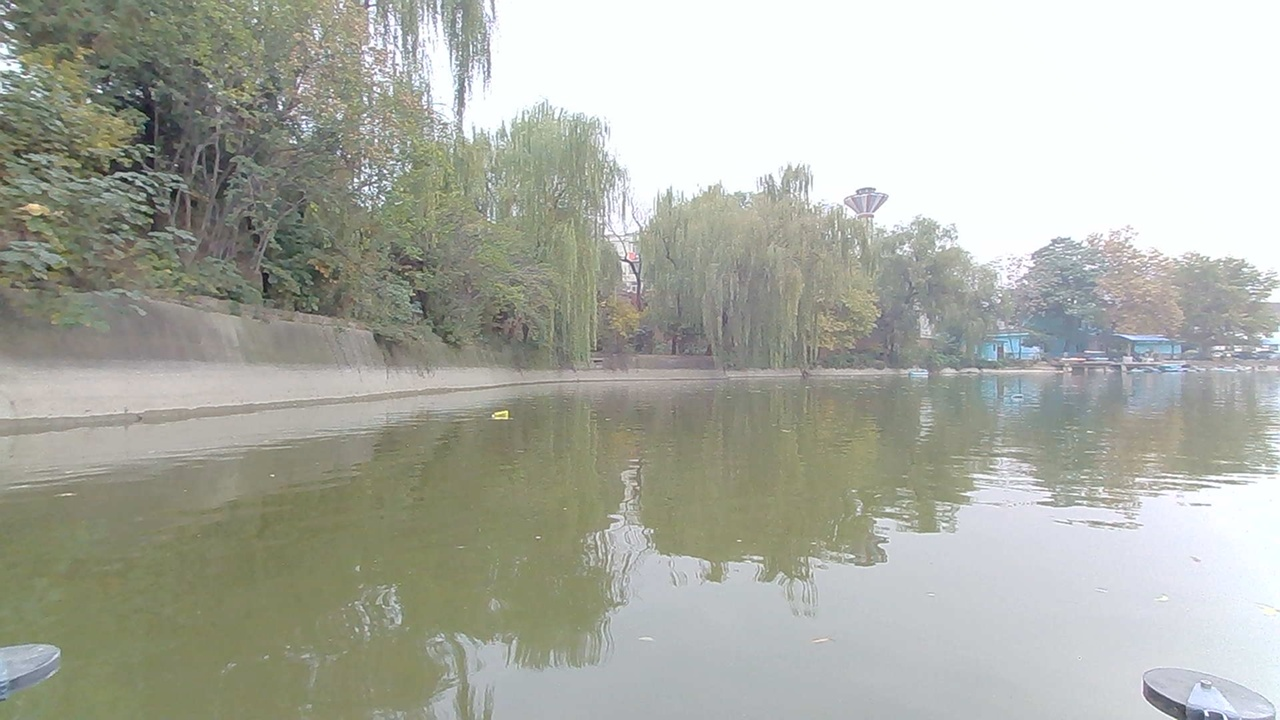bottle: (485, 405, 519, 428), (1004, 390, 1033, 405)
